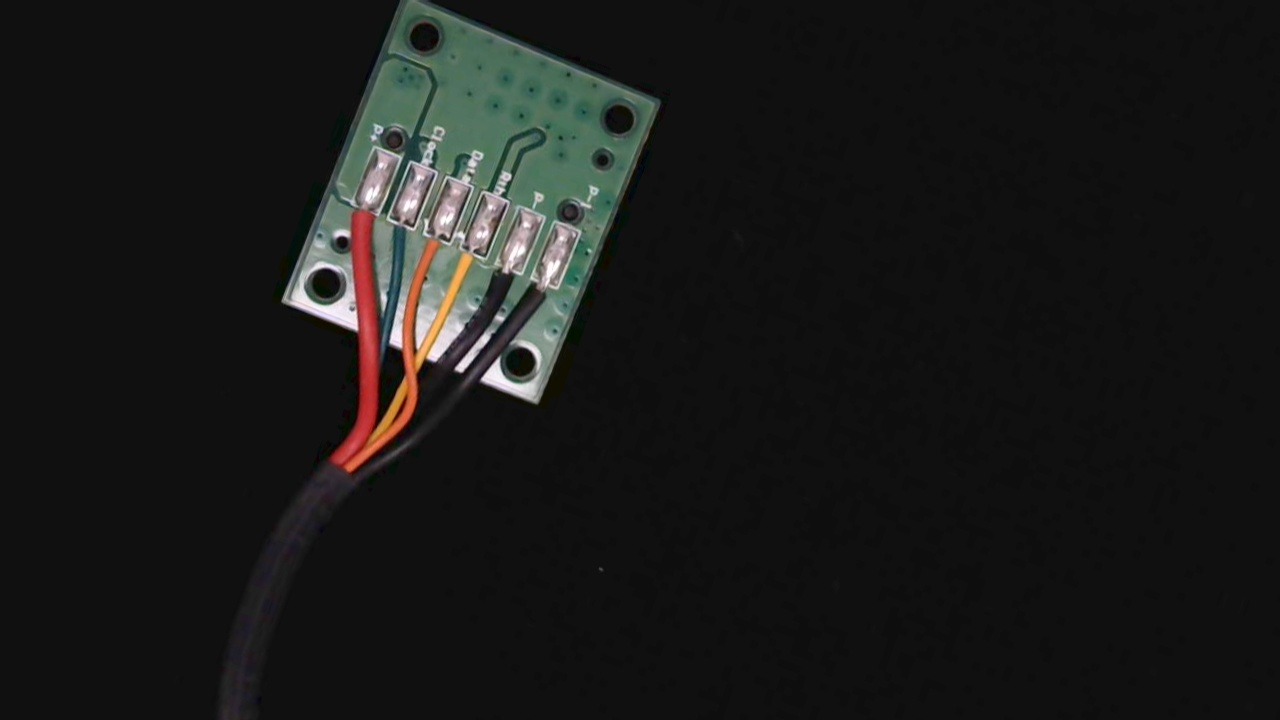Black: (475, 249, 527, 316)
Black1: (518, 262, 564, 321)
Green: (372, 207, 419, 264)
Orange: (406, 220, 455, 291)
Red: (335, 193, 383, 258)
Yellow: (435, 230, 488, 307)
